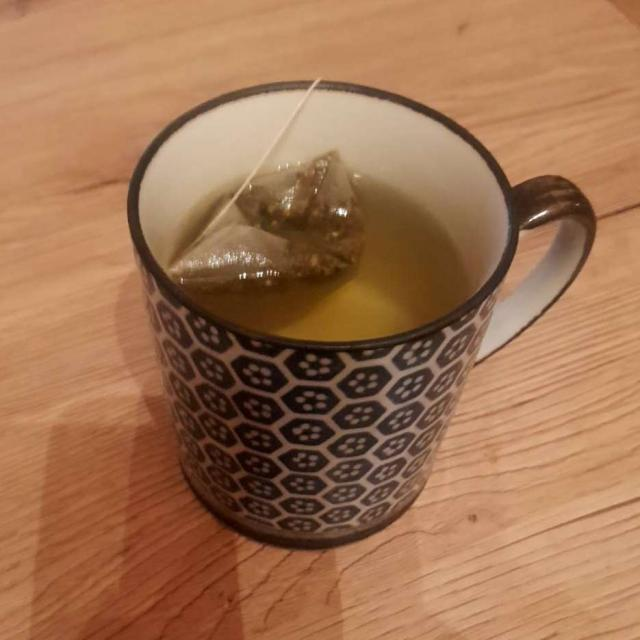herbal-tea: (163, 156, 464, 341)
